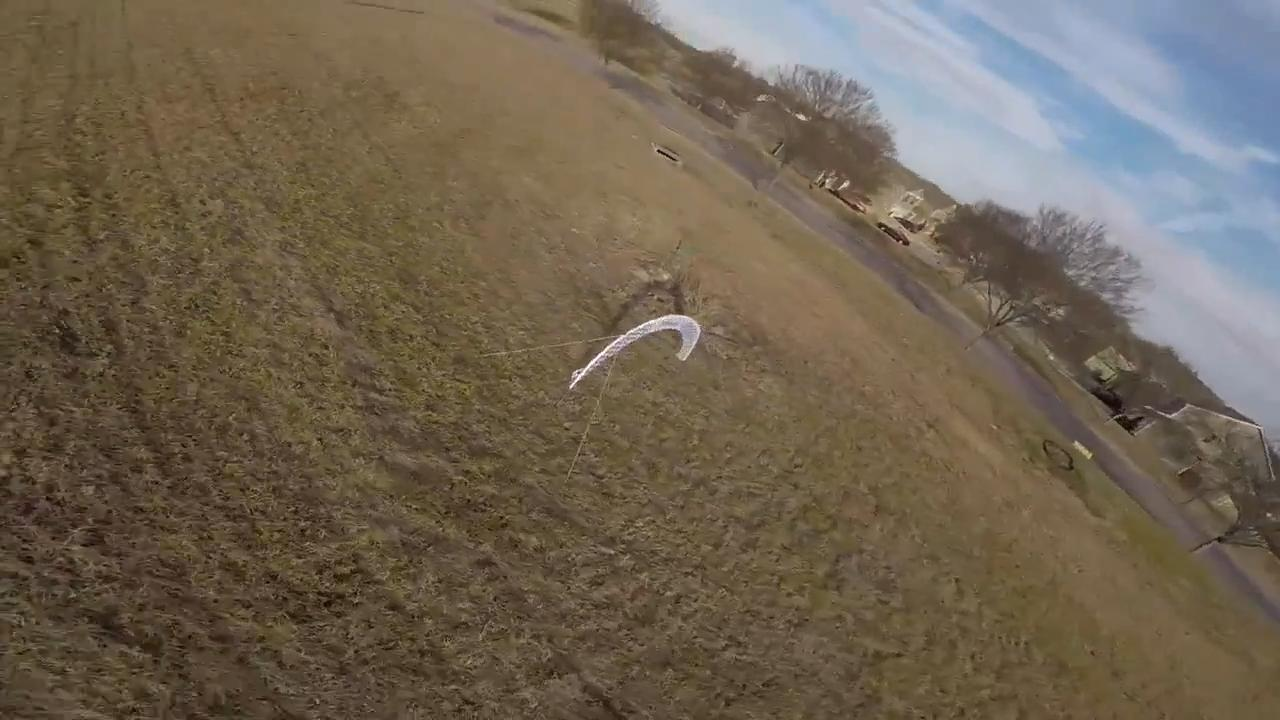gate: (569, 311, 704, 392)
